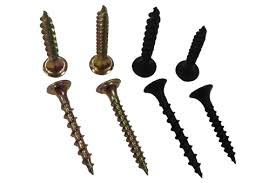TORNILLOS: (35, 6, 249, 177)
